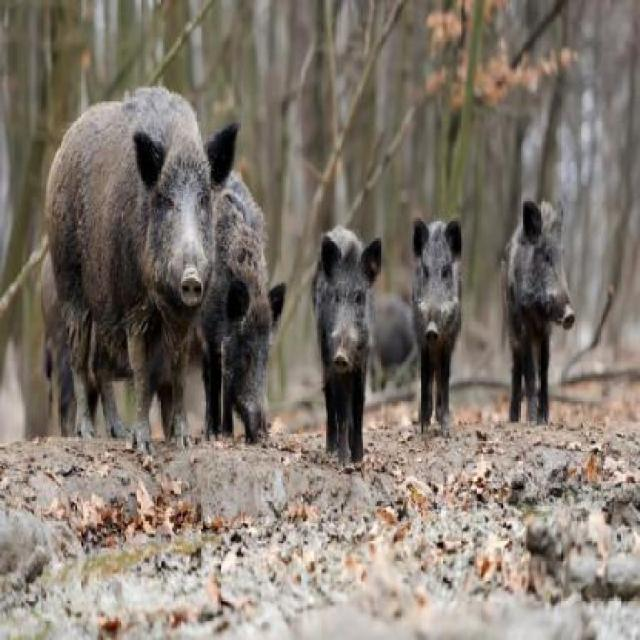wildboar: (32, 78, 248, 464), (195, 159, 292, 452), (495, 195, 577, 432), (308, 220, 384, 474), (408, 212, 468, 440)
